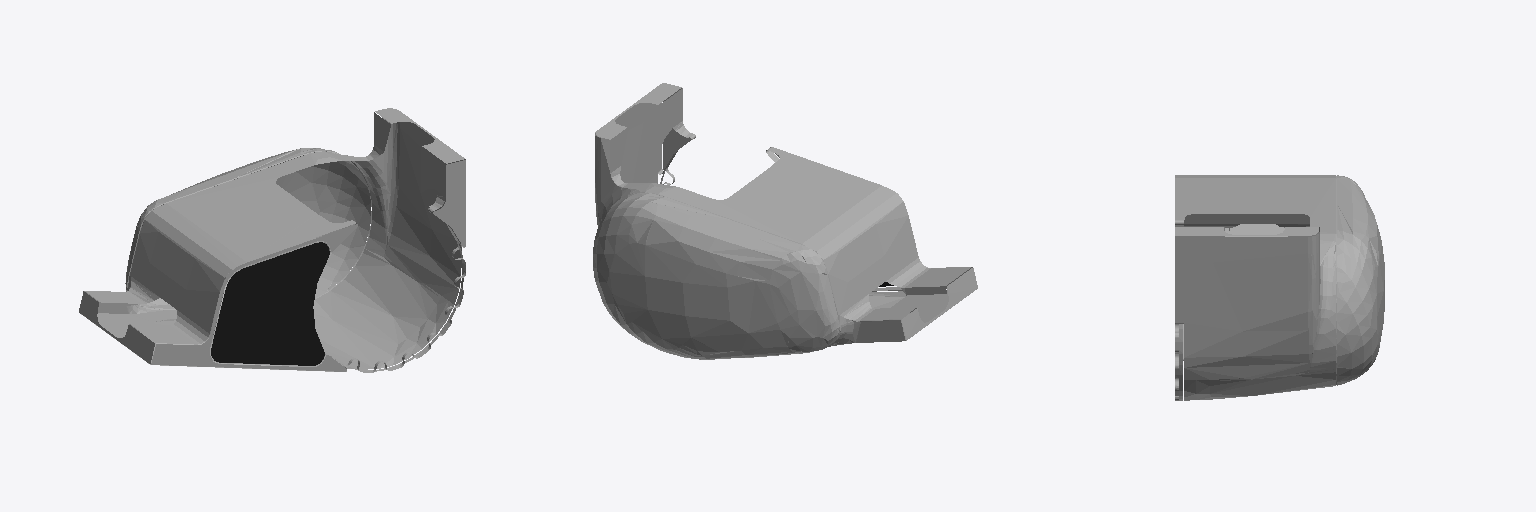
File: shoulder-roll-housing-mirror.obj
The picture shows the model from 3 angles: view 1: azimuth 30°, elevation 25°; view 2: azimuth 150°, elevation 25°; view 3: azimuth 270°, elevation 25°; orthographic projection.
Visible parts, largest first — view 1: __TMPOBJ_____TMPMESH__.070; view 2: __TMPOBJ_____TMPMESH__.070; view 3: __TMPOBJ_____TMPMESH__.070.
Part boxes in pixels (x1,y1,x2,y2): __TMPOBJ_____TMPMESH__.070: (79,108,465,372); __TMPOBJ_____TMPMESH__.070: (593,83,977,359); __TMPOBJ_____TMPMESH__.070: (1175,175,1384,400).
Size of the model in its own units: 0.1538 by 0.09 by 0.0887.